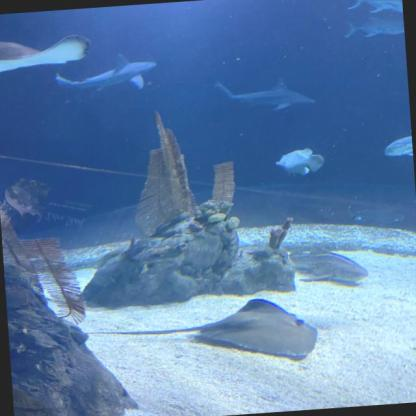fish: (286, 240, 370, 286), (340, 12, 404, 40), (275, 146, 325, 178), (346, 0, 403, 18), (384, 135, 413, 160)
shark: (52, 50, 159, 97), (209, 72, 316, 116)
stingray: (192, 295, 319, 363), (0, 34, 93, 76), (352, 206, 405, 226)
